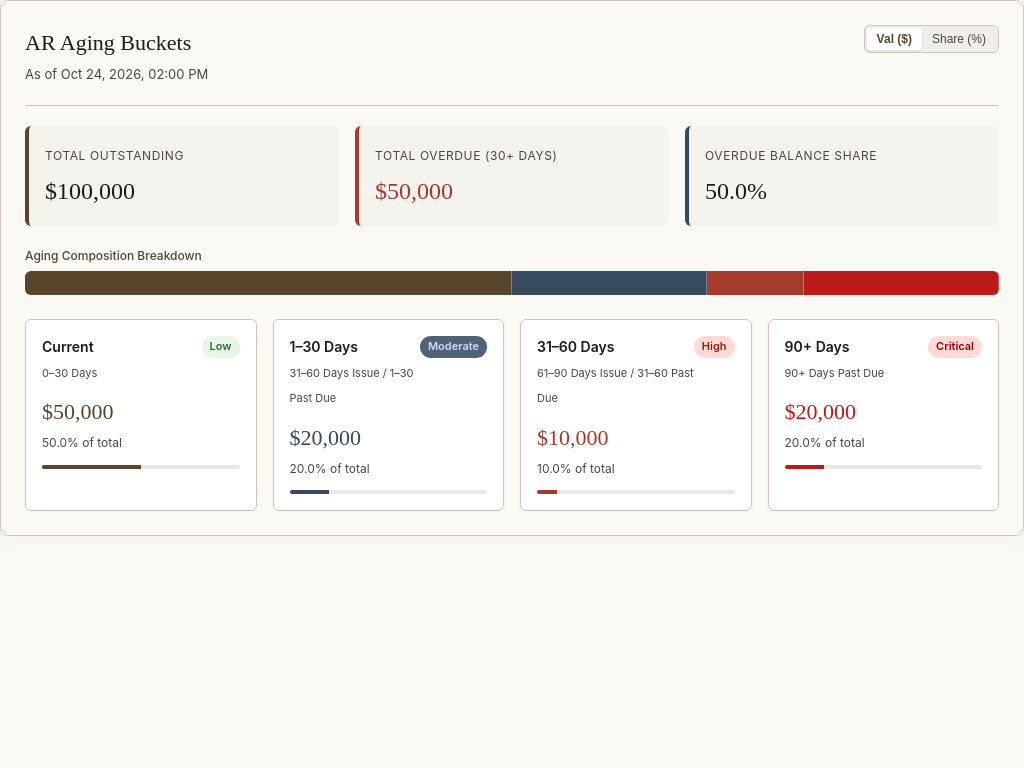
Scenario: ArAgingChart Component › Component Rendering › handles interactive bucket selection and displays detail panel
Click the button with test id "ar-aging-chart-card-bucket_60": (636, 415) [520,319,752,511]
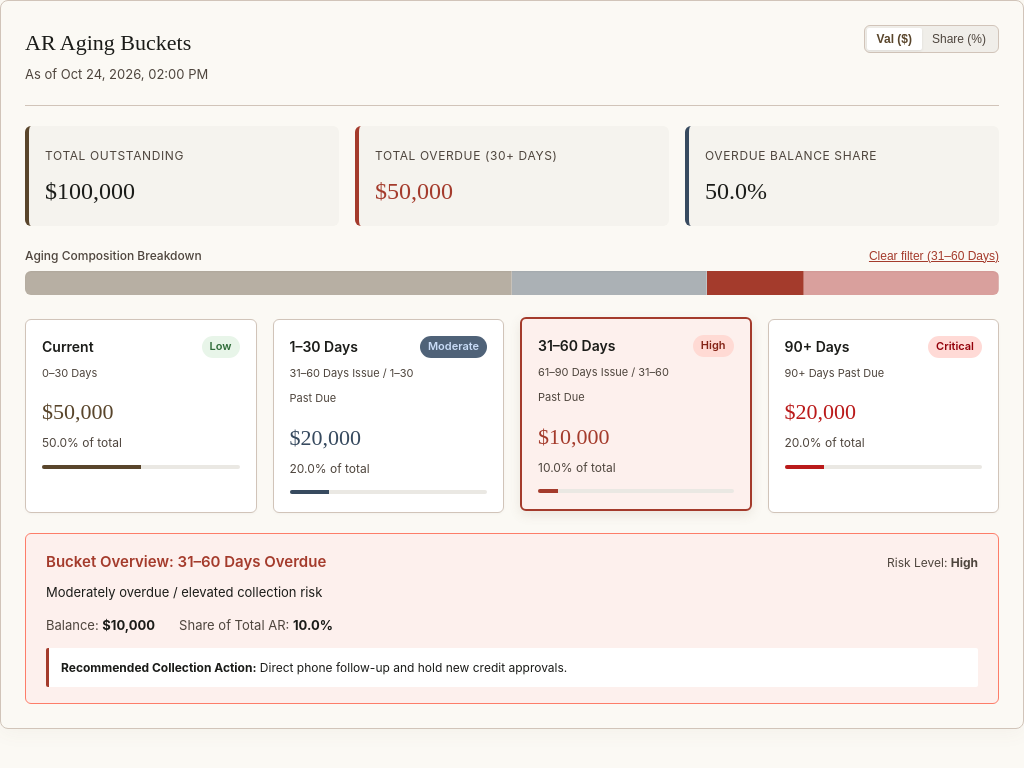
Check: the element with test id "ar-aging-chart-bucket-detail-panel" is shown, box [25,533,999,704]
Check: the heading "Bucket Overview: 31–60 Days Overdue" is shown, box [46,550,326,574]
